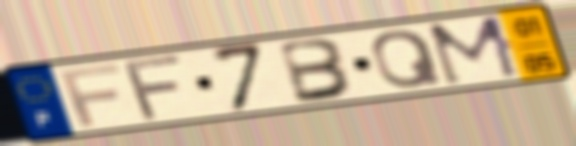7: (210, 40, 270, 117)
B: (276, 36, 358, 106)
F: (122, 52, 189, 125), (56, 61, 125, 129)
M: (423, 13, 526, 89)
Q: (368, 28, 447, 91)
